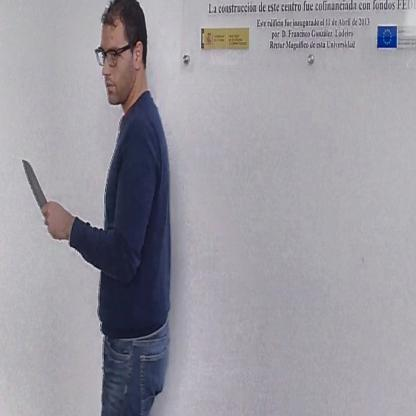knife: (19, 154, 57, 229)
